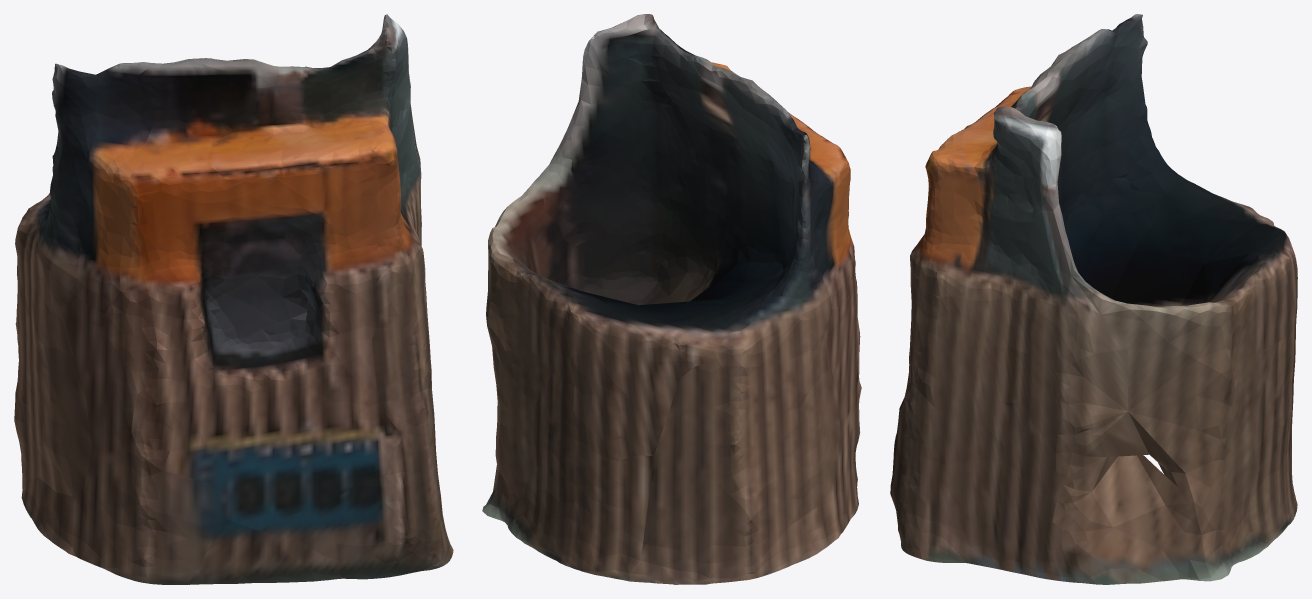
Rendered from Noah_Potter.glb.
The picture shows the model from 3 angles, left to right: view 1: azimuth 30°, elevation 25°; view 2: azimuth 150°, elevation 25°; view 3: azimuth 270°, elevation 25°; orthographic projection. The views are drawn at different scales.
Visible parts, largest first — view 1: mesh.003; view 2: mesh.003; view 3: mesh.003.
Boxes of the visible parts, <box> form: mesh.003: <box>14,14,453,584</box>; mesh.003: <box>482,14,861,584</box>; mesh.003: <box>890,14,1297,584</box>.
Size of the model in its own units: 2.87 by 3.84 by 3.19.
1 material, 1 textured.
